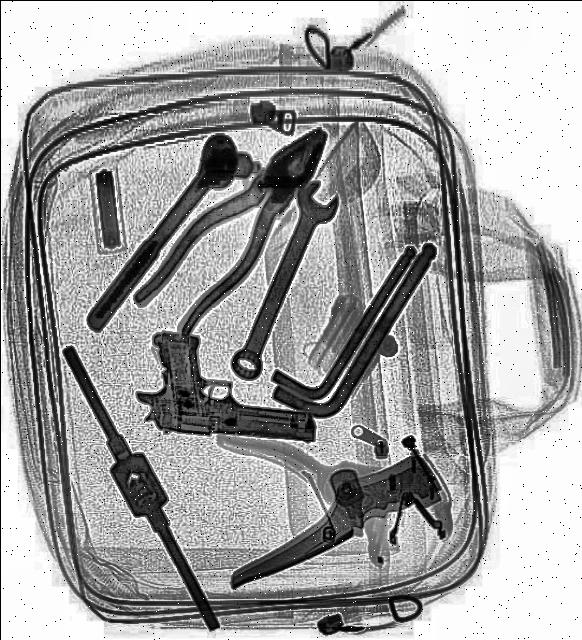Gun: (131, 328, 319, 442)
Pliers: (125, 106, 352, 344)
Wrench: (226, 170, 342, 384)
